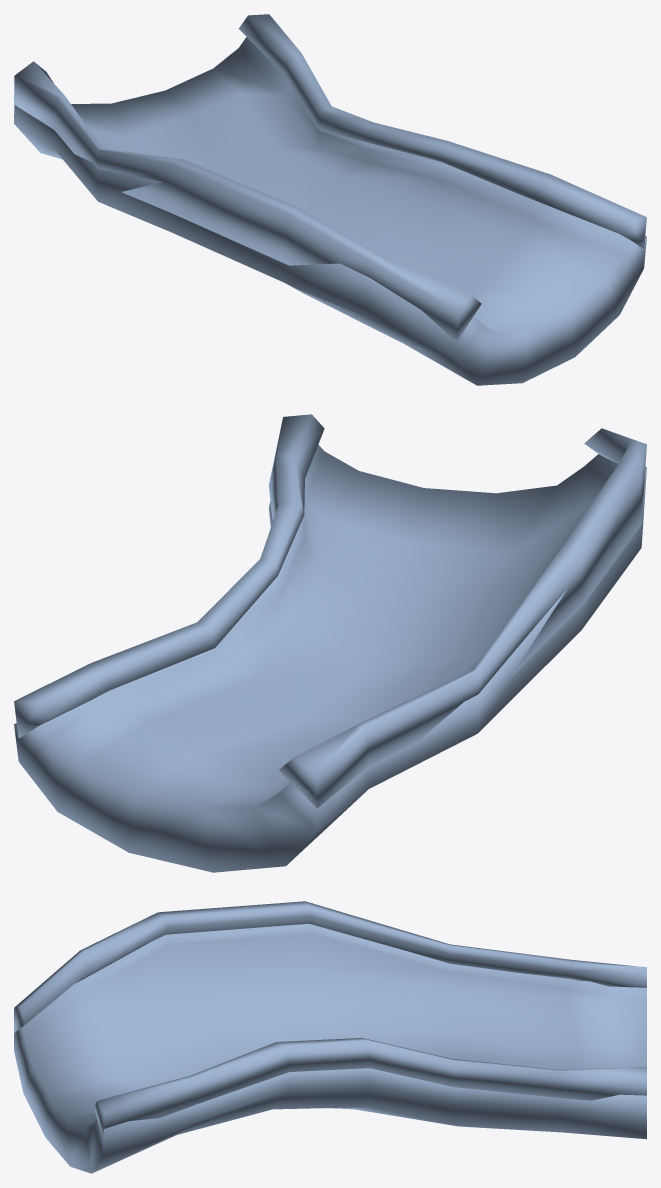
The model's file is junRoadShort10_20.fbx.
3 renders of one model, top to bottom at view 1: azimuth 30°, elevation 25°; view 2: azimuth 150°, elevation 25°; view 3: azimuth 270°, elevation 25°, orthographic. The views are drawn at different scales.
Parts seen in each view (by area): view 1: roadShort10_20_LOD0, roadShort10_20_edge_LOD0; view 2: roadShort10_20_LOD0, roadShort10_20_edge_LOD0; view 3: roadShort10_20_LOD0, roadShort10_20_edge_LOD0.
Part boxes in pixels (left/top/right/bottom): roadShort10_20_LOD0: left=14, top=37, right=646, bottom=385; roadShort10_20_edge_LOD0: left=14, top=14, right=646, bottom=340; roadShort10_20_LOD0: left=14, top=445, right=646, bottom=872; roadShort10_20_edge_LOD0: left=14, top=414, right=646, bottom=808; roadShort10_20_LOD0: left=14, top=923, right=646, bottom=1173; roadShort10_20_edge_LOD0: left=14, top=901, right=646, bottom=1138.
Size of the model in its own units: 1380 by 606 by 2321.
